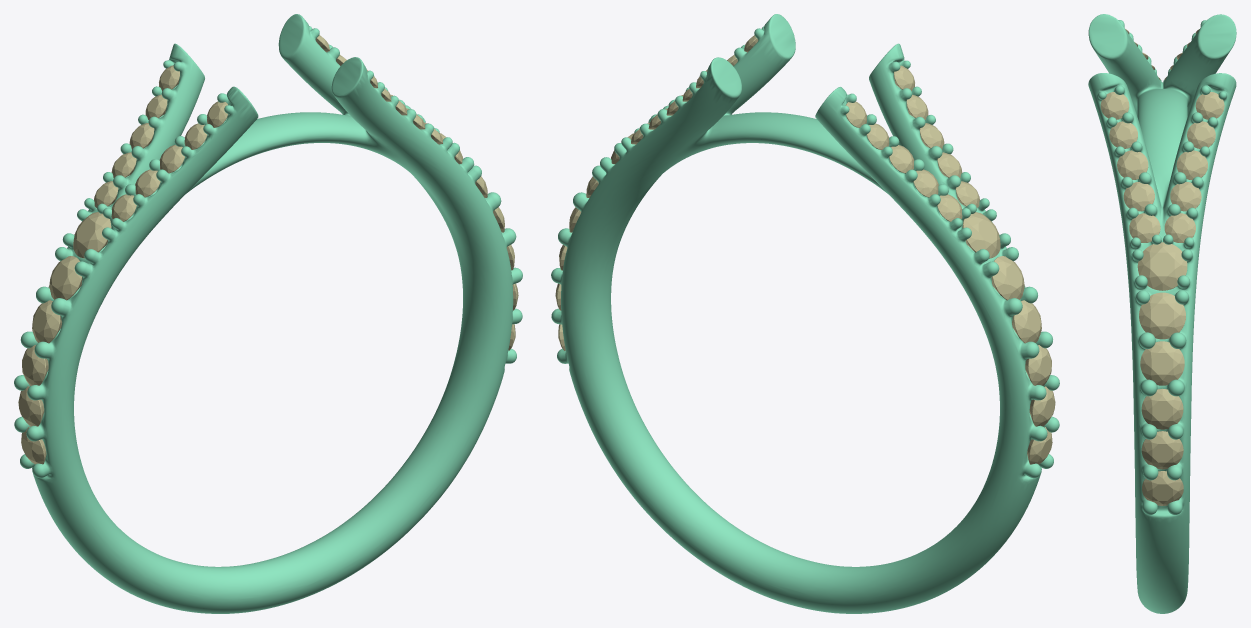
3 renders of one model, left to right at view 1: azimuth 30°, elevation 25°; view 2: azimuth 150°, elevation 25°; view 3: azimuth 270°, elevation 25°, orthographic.
Visible parts, largest first — view 1: Metal02, Diamond_Gem.021, Diamond_Gem.019, Diamond_Gem.023, Diamond_Gem.017, Diamond_Gem.016; view 2: Metal02, Diamond_Gem.021, Diamond_Gem.019, Diamond_Gem.023, Diamond_Gem.017; view 3: Metal02, Diamond_Gem.020, Diamond_Gem.018, Diamond_Gem.022, Diamond_Gem.012, Diamond_Gem.013, Diamond_Gem.014, Diamond_Gem.005, Diamond_Gem.002, Diamond_Gem, Diamond_Gem.003, Diamond_Gem.001 (+5 smaller).
Boxes of the visible parts, x1=… form: Metal02: x1=14, y1=14, x2=522, y2=613; Diamond_Gem.021: x1=73, y1=212, x2=111, y2=258; Diamond_Gem.019: x1=49, y1=256, x2=82, y2=300; Diamond_Gem.023: x1=32, y1=300, x2=61, y2=343; Diamond_Gem.017: x1=22, y1=345, x2=48, y2=385; Diamond_Gem.016: x1=18, y1=386, x2=44, y2=426; Metal02: x1=551, y1=14, x2=1059, y2=613; Diamond_Gem.021: x1=962, y1=212, x2=1000, y2=258; Diamond_Gem.019: x1=991, y1=256, x2=1024, y2=300; Diamond_Gem.023: x1=1012, y1=300, x2=1041, y2=343; Diamond_Gem.017: x1=1025, y1=345, x2=1051, y2=385; Metal02: x1=1088, y1=14, x2=1236, y2=613; Diamond_Gem.020: x1=1137, y1=242, x2=1187, y2=290; Diamond_Gem.018: x1=1139, y1=292, x2=1185, y2=339; Diamond_Gem.022: x1=1140, y1=341, x2=1184, y2=385; Diamond_Gem.012: x1=1141, y1=388, x2=1183, y2=429; Diamond_Gem.013: x1=1141, y1=431, x2=1183, y2=469; Diamond_Gem.014: x1=1142, y1=471, x2=1183, y2=505; Diamond_Gem.005: x1=1117, y1=150, x2=1148, y2=179; Diamond_Gem.002: x1=1164, y1=213, x2=1195, y2=242; Diamond_Gem: x1=1176, y1=150, x2=1207, y2=179; Diamond_Gem.003: x1=1129, y1=213, x2=1160, y2=242; Diamond_Gem.001: x1=1170, y1=182, x2=1201, y2=211.
Bounding box in the file's own units: 21.45 × 22.99 × 5.67.
